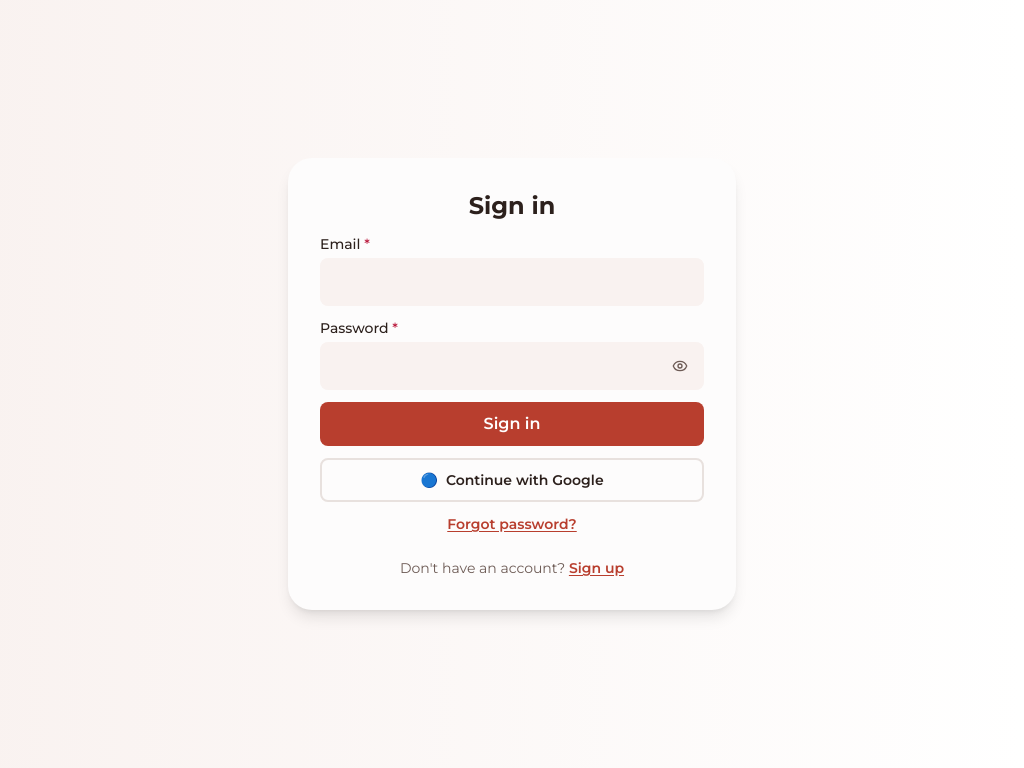
Test case: the other ways in › swaps to registration and back
Click the button "Sign up" at (596, 568), box x1=569 y1=558 x2=624 y2=578
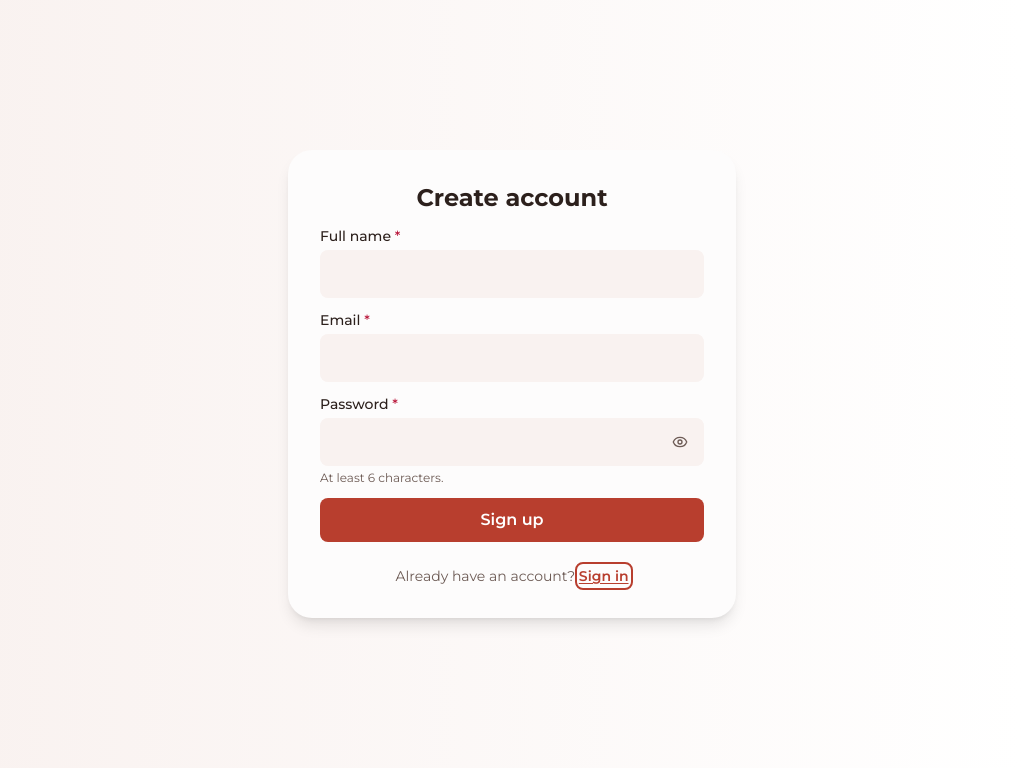
expect the heading "Create account" is shown: met, box x1=416 y1=182 x2=608 y2=214
Click the button "Sign in" at (604, 576), box x1=579 y1=566 x2=629 y2=586
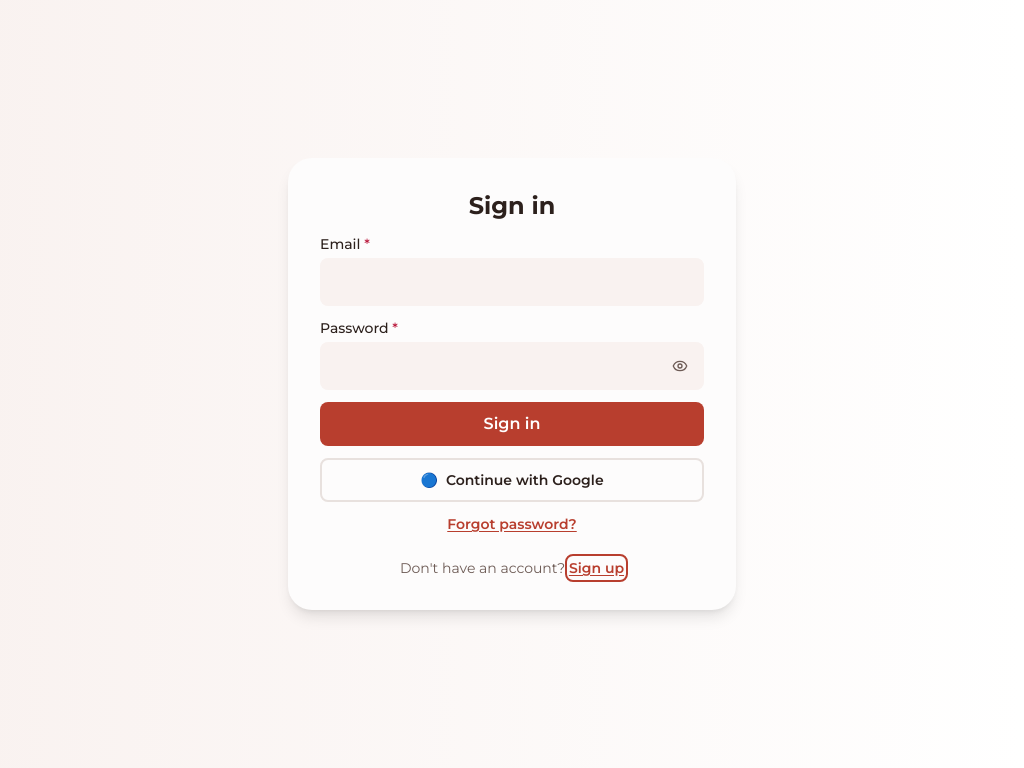
expect the heading "Sign in" is shown: met, box x1=469 y1=190 x2=555 y2=222
